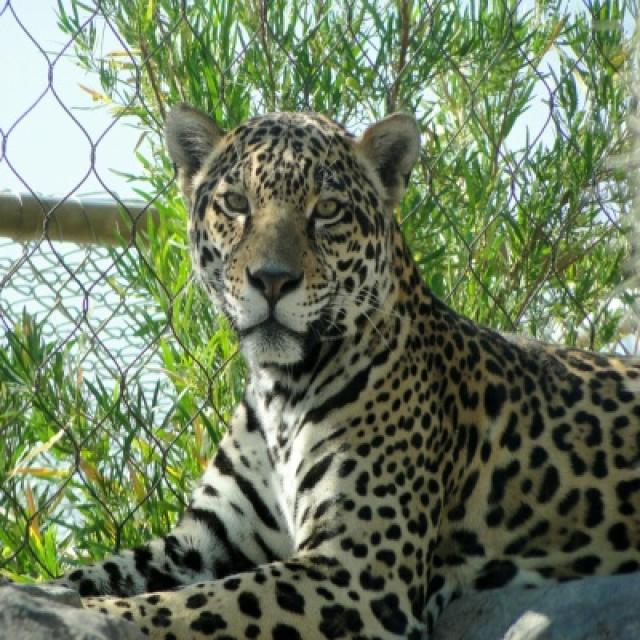Jaguar: (0, 104, 638, 638)
